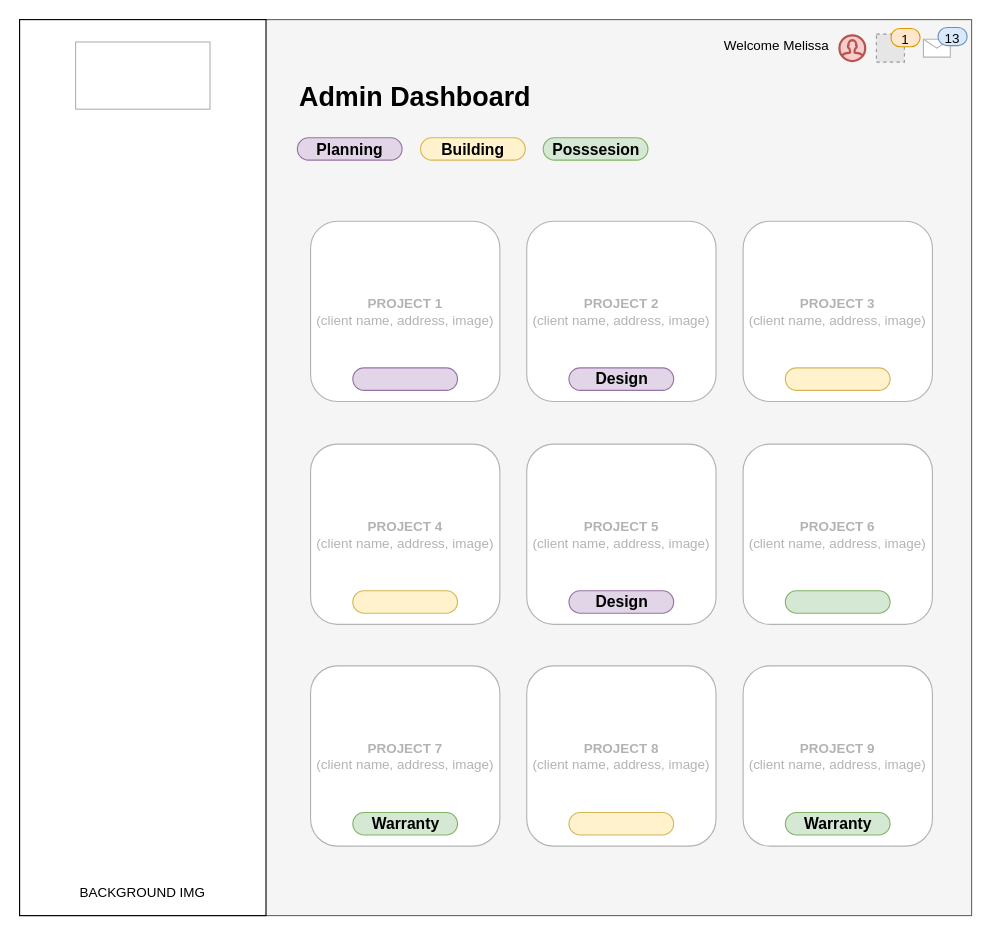
Image size: 991x935. Some labels were removed from this diagram. Grey dashed boxes stand in for pictures. The shapes that lost their labels are listed below. From the top down, each one's centre as x and y in pixels, then its label:
At point 142,75: "LOGO".
At point 405,378: "Selections".
At point 837,378: "Plumbing".
At point 405,601: "Mechanical".
At point 837,601: "Move in".
At point 621,823: "Backfill".
